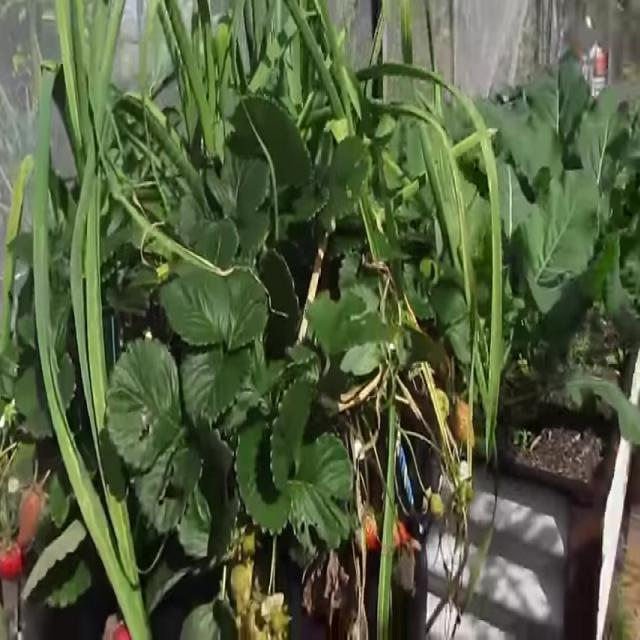Fruta sana: (14, 480, 46, 552), (228, 562, 252, 618), (354, 502, 380, 552), (1, 538, 24, 582)
Moho gris: (392, 548, 416, 594)
